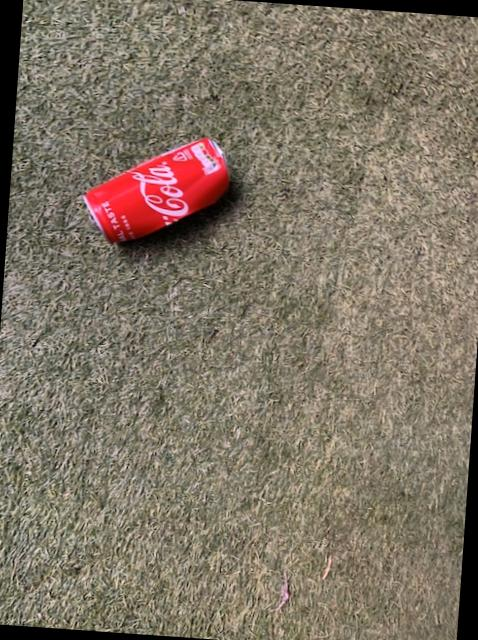metal: (83, 139, 228, 242)
